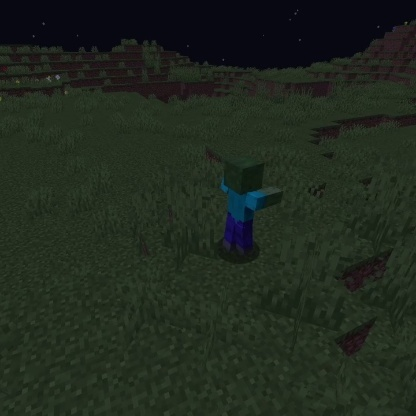zombie: (218, 153, 285, 259)
